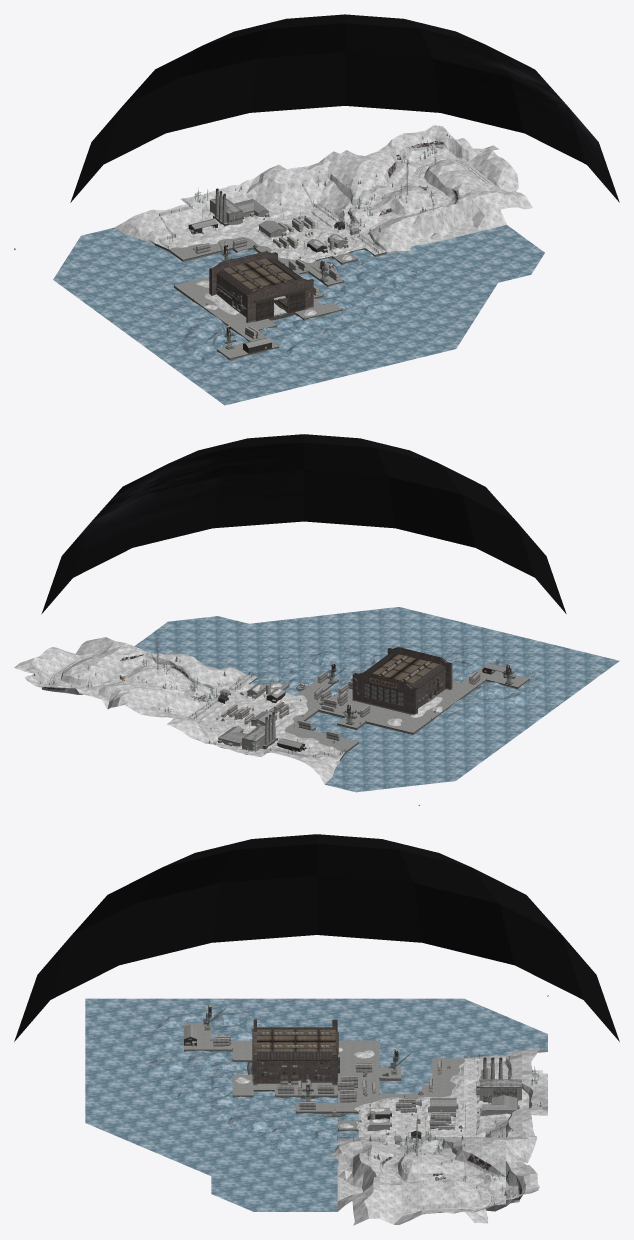
File: recovered_map_m81.glb
3 views of the same model, one above another, from view 1: azimuth 30°, elevation 25°; view 2: azimuth 150°, elevation 25°; view 3: azimuth 270°, elevation 25° (orthographic). The views are drawn at different scales.
Parts seen in each view (by area): view 1: W_ice, S_m81_cloudlayer, W_m81_snow, W_roadcement1, W_wall_cinderblock, W_steeldeckstructure, W_wall_corigate, W_tex_rustymetal, W_cement_base, W_container_side1, W_a_steel18, W_snowytreelimb01; view 2: S_m81_cloudlayer, W_ice, W_m81_snow, W_roadcement1, W_wall_cinderblock, W_steeldeckstructure, W_container_side1, W_a_steel18, W_cement_base, W_wall_corigate, W_subpen_window_large, W_tex_rustymetal (+1 smaller); view 3: W_ice, S_m81_cloudlayer, W_m81_snow, W_roadcement1, W_container_side1, W_steeldeckstructure, W_wall_cinderblock, W_a_steel18, W_tex_rustymetal, W_wall_corigate, W_cement_base, W_snowytreelimb01 (+1 smaller).
Part boxes in pixels (<box>): W_ice: <box>53,225,544,405</box>; S_m81_cloudlayer: <box>70,14,619,202</box>; W_m81_snow: <box>114,125,532,316</box>; W_roadcement1: <box>169,160,408,358</box>; W_wall_cinderblock: <box>209,252,313,321</box>; W_steeldeckstructure: <box>189,193,359,347</box>; W_wall_corigate: <box>188,221,344,353</box>; W_tex_rustymetal: <box>209,251,313,321</box>; W_cement_base: <box>155,188,386,360</box>; W_container_side1: <box>196,216,338,338</box>; W_a_steel18: <box>223,259,295,291</box>; W_snowytreelimb01: <box>193,133,462,232</box>; S_m81_cloudlayer: <box>41,434,566,614</box>; W_ice: <box>134,607,619,792</box>; W_m81_snow: <box>14,637,442,784</box>; W_roadcement1: <box>156,634,529,751</box>; W_wall_cinderblock: <box>352,647,452,714</box>; W_steeldeckstructure: <box>218,663,510,750</box>; W_container_side1: <box>221,671,480,740</box>; W_a_steel18: <box>370,654,438,704</box>; W_cement_base: <box>249,672,529,760</box>; W_wall_corigate: <box>218,653,511,751</box>; W_subpen_window_large: <box>331,656,509,712</box>; W_tex_rustymetal: <box>352,647,451,706</box>; W_ice: <box>85,998,547,1211</box>; S_m81_cloudlayer: <box>14,834,619,1041</box>; W_m81_snow: <box>235,1047,547,1225</box>; W_roadcement1: <box>184,1023,464,1155</box>; W_container_side1: <box>213,1035,455,1130</box>; W_steeldeckstructure: <box>183,1024,521,1143</box>; W_wall_cinderblock: <box>253,1020,337,1083</box>; W_a_steel18: <box>257,1029,490,1177</box>; W_tex_rustymetal: <box>247,1019,338,1083</box>; W_wall_corigate: <box>184,1005,421,1138</box>; W_cement_base: <box>184,1045,502,1131</box>; W_snowytreelimb01: <box>366,1070,541,1204</box>.
Size of what is drawn, in the model's own units: 468 by 198 by 461.
85 materials, 85 textured.
